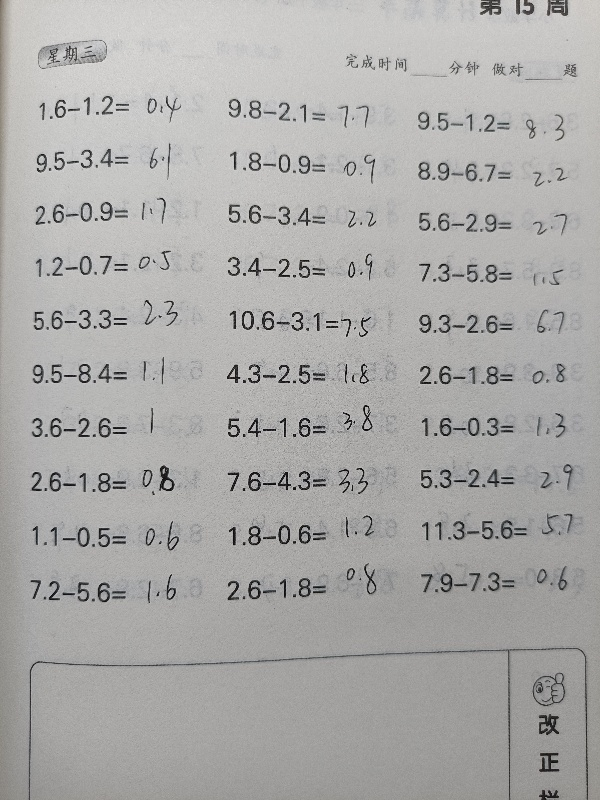equation: (220, 460, 400, 502), (26, 190, 206, 231), (220, 304, 400, 341), (22, 573, 202, 609), (218, 570, 398, 606), (24, 519, 204, 555), (221, 517, 401, 553), (413, 512, 593, 548), (23, 464, 203, 500), (24, 410, 204, 446), (23, 355, 203, 391), (218, 249, 398, 285), (26, 246, 206, 282), (27, 141, 207, 177), (411, 564, 591, 599), (219, 410, 399, 445), (410, 357, 590, 392), (218, 357, 398, 392), (409, 306, 589, 341), (24, 302, 204, 337), (410, 255, 590, 290), (219, 197, 399, 232), (219, 93, 399, 128), (31, 89, 211, 124), (411, 461, 591, 495), (413, 410, 593, 444), (409, 205, 589, 239), (409, 155, 589, 189), (221, 146, 401, 180), (408, 105, 588, 139)
